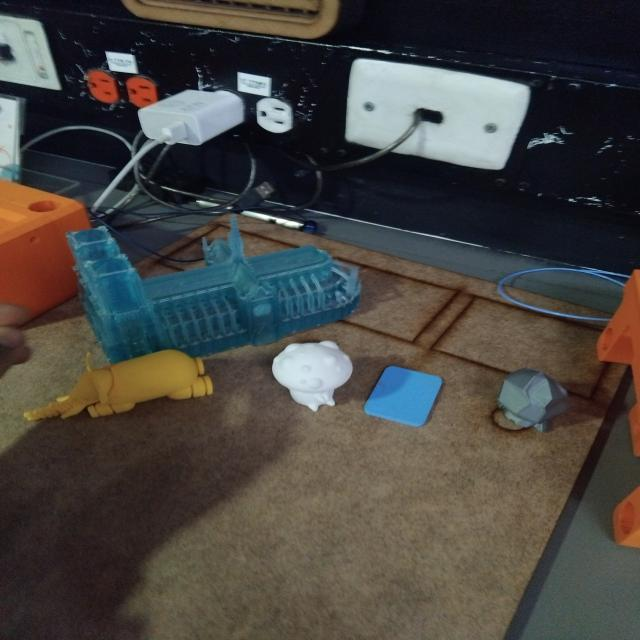Hongo: (258, 339, 357, 416)
